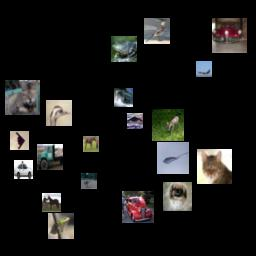airplane: (157, 142, 189, 174), (10, 131, 29, 150), (127, 113, 143, 129), (196, 61, 212, 77)
automobile: (212, 18, 247, 53), (122, 191, 154, 223), (14, 160, 33, 179)
bird: (46, 100, 72, 126), (144, 18, 170, 44), (81, 173, 97, 189)
cat: (5, 80, 40, 115), (197, 149, 232, 184)
deer: (152, 109, 184, 141), (114, 88, 133, 107)
dog: (163, 182, 192, 211)
frog: (111, 36, 137, 62), (48, 213, 74, 239)
truck: (37, 144, 63, 170)
